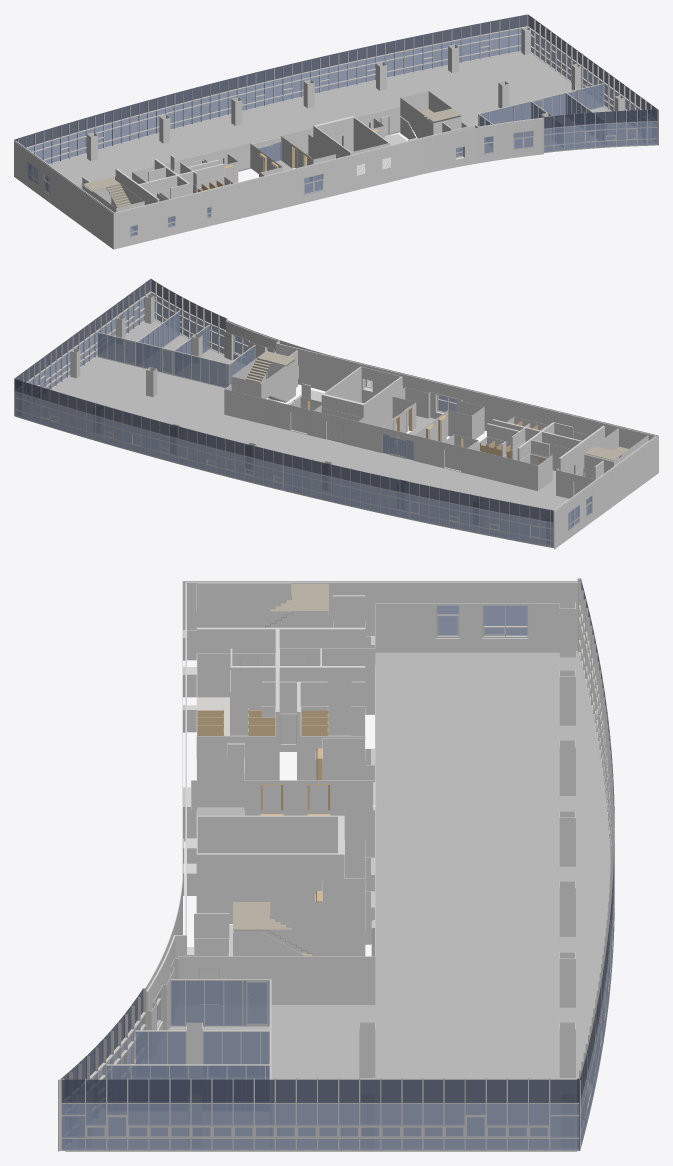
The picture shows the model from 3 angles, top to bottom: view 1: azimuth 30°, elevation 25°; view 2: azimuth 150°, elevation 25°; view 3: azimuth 270°, elevation 25°; orthographic projection. The views are drawn at different scales.
Visible parts, largest first — view 1: A8_16F_Window, A8_16F_Floor, A8_16F_outWall, A8_16F_Wall, A8_16F_Pillar, A8_16F_Glass, A8_16F_Stairs, A8_16F_Frame, A8_16F_ELEV, A8_16F_AutomaticDoor; view 2: A8_16F_Floor, A8_16F_Wall, A8_16F_Window, A8_16F_outWall, A8_16F_Glass, A8_16F_Pillar, A8_16F_Door, A8_16F_Frame, A8_16F_Stairs, A8_16F_AutomaticDoor, A8_16F_ELEV, A8_16F_GlassDoor; view 3: A8_16F_Floor, A8_16F_Wall, A8_16F_Window, A8_16F_Pillar, A8_16F_Glass, A8_16F_Stairs, A8_16F_Frame, A8_16F_Door, A8_16F_Toilet, A8_16F_outWall, A8_16F_ELEV, A8_16F_GlassDoor.
Boxes of the visible parts, x1,y1,x2,y2 form: A8_16F_Window: (14,14,658,237); A8_16F_Floor: (31,52,654,191); A8_16F_outWall: (14,118,543,249); A8_16F_Wall: (15,91,543,235); A8_16F_Pillar: (87,27,651,161); A8_16F_Glass: (478,84,602,125); A8_16F_Stairs: (83,108,461,207); A8_16F_Frame: (478,83,603,126); A8_16F_ELEV: (224,129,379,182); A8_16F_AutomaticDoor: (251,136,281,163); A8_16F_Floor: (22,320,587,547); A8_16F_Wall: (224,321,656,527); A8_16F_Window: (14,278,591,547); A8_16F_outWall: (227,320,658,549); A8_16F_Glass: (98,311,254,387); A8_16F_Pillar: (18,294,549,544); A8_16F_Door: (267,369,593,495); A8_16F_Frame: (97,310,255,388); A8_16F_Stairs: (245,351,628,460); A8_16F_AutomaticDoor: (381,428,413,460); A8_16F_ELEV: (307,400,471,448); A8_16F_GlassDoor: (126,340,563,454); A8_16F_Floor: (65,651,610,1151); A8_16F_Wall: (146,582,578,1059); A8_16F_Window: (58,578,614,1151); A8_16F_Pillar: (78,602,575,1147); A8_16F_Glass: (106,981,269,1079); A8_16F_Stairs: (233,583,328,956); A8_16F_Frame: (106,979,271,1147); A8_16F_Door: (199,636,374,1003); A8_16F_Toilet: (197,708,328,735); A8_16F_outWall: (145,581,577,990); A8_16F_ELEV: (260,748,330,902); A8_16F_GlassDoor: (247,981,269,1063).
Size of the model in its own units: 61.96 by 4.3 by 29.02.
